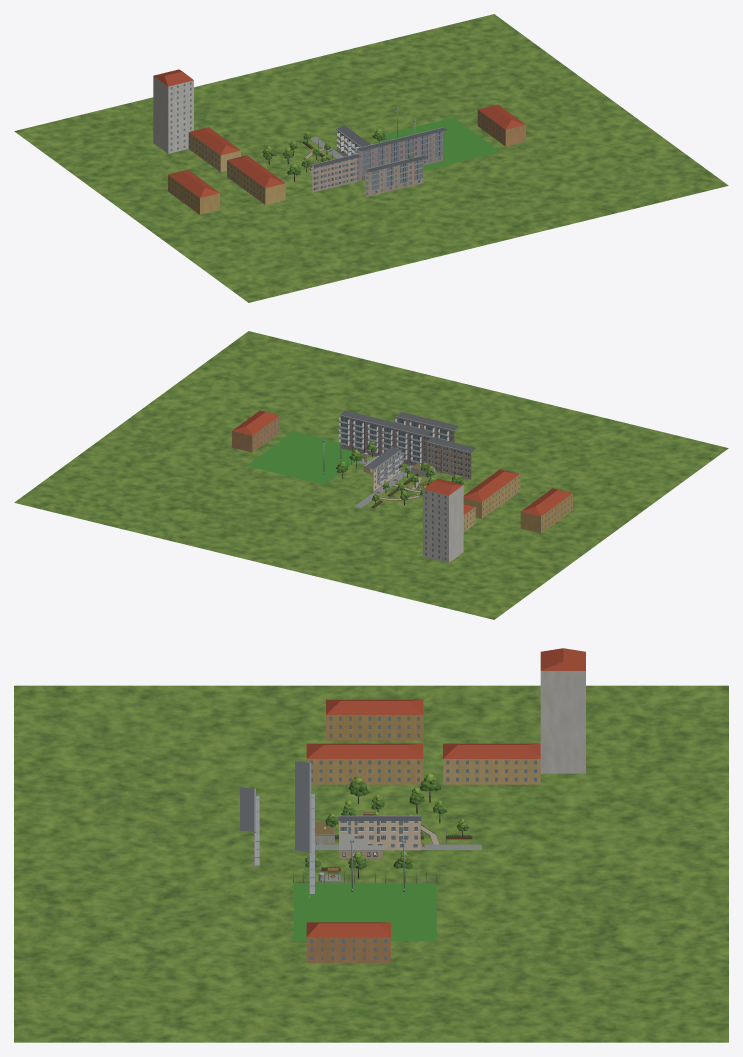
Rendered from apartment.glb.
3 renders of one model, top to bottom at view 1: azimuth 30°, elevation 25°; view 2: azimuth 150°, elevation 25°; view 3: azimuth 270°, elevation 25°, orthographic. The views are drawn at different scales.
Parts seen in each view (by area): view 1: BAKED_far, BAKED_outside, Courtyard_Block_far_glass; view 2: BAKED_far, BAKED_outside, Courtyard_Block_far_glass, Courtyard_Block_near_glass; view 3: BAKED_far, BAKED_outside, BAKED_shell.
Part boxes in pixels (left/top/right/bottom): BAKED_far: left=14, top=14, right=728, bottom=302; BAKED_outside: left=241, top=125, right=370, bottom=197; Courtyard_Block_far_glass: left=357, top=131, right=442, bottom=195; BAKED_far: left=14, top=331, right=728, bottom=619; BAKED_outside: left=354, top=437, right=481, bottom=523; Courtyard_Block_far_glass: left=341, top=417, right=453, bottom=464; Courtyard_Block_near_glass: left=374, top=443, right=470, bottom=487; BAKED_far: left=14, top=648, right=728, bottom=1042; BAKED_outside: left=295, top=761, right=481, bottom=880; BAKED_shell: left=339, top=833, right=382, bottom=859.
Bounding box in the file's own units: 260 × 40 × 220.
59 materials, 13 textured.
